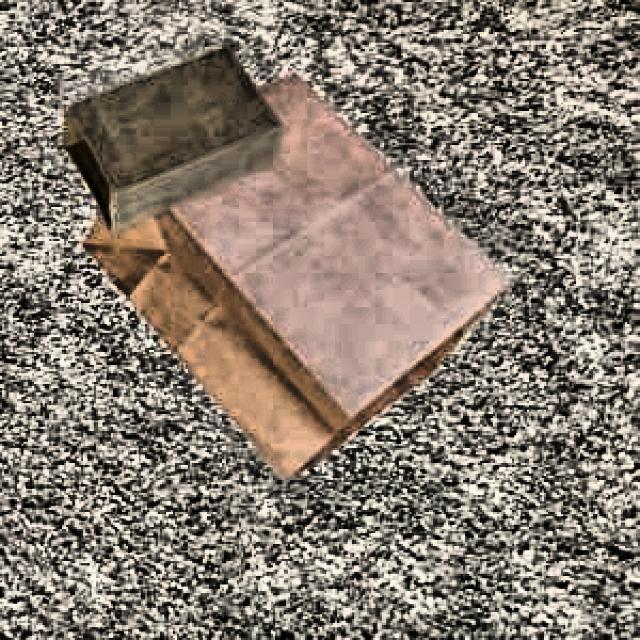Paper-bag: (58, 81, 509, 515), (44, 36, 287, 251)
